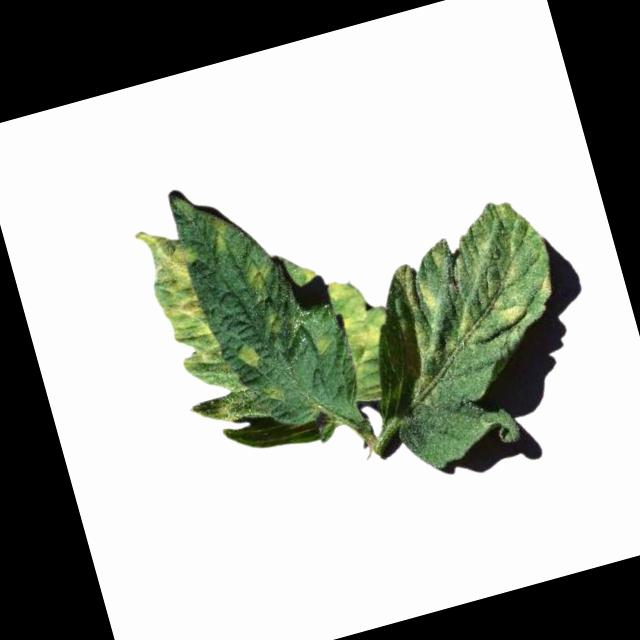Leaf_Mold: (134, 217, 229, 400), (326, 268, 398, 367), (236, 247, 280, 305), (491, 285, 534, 330), (414, 274, 445, 315), (234, 337, 266, 371), (530, 267, 556, 301)
